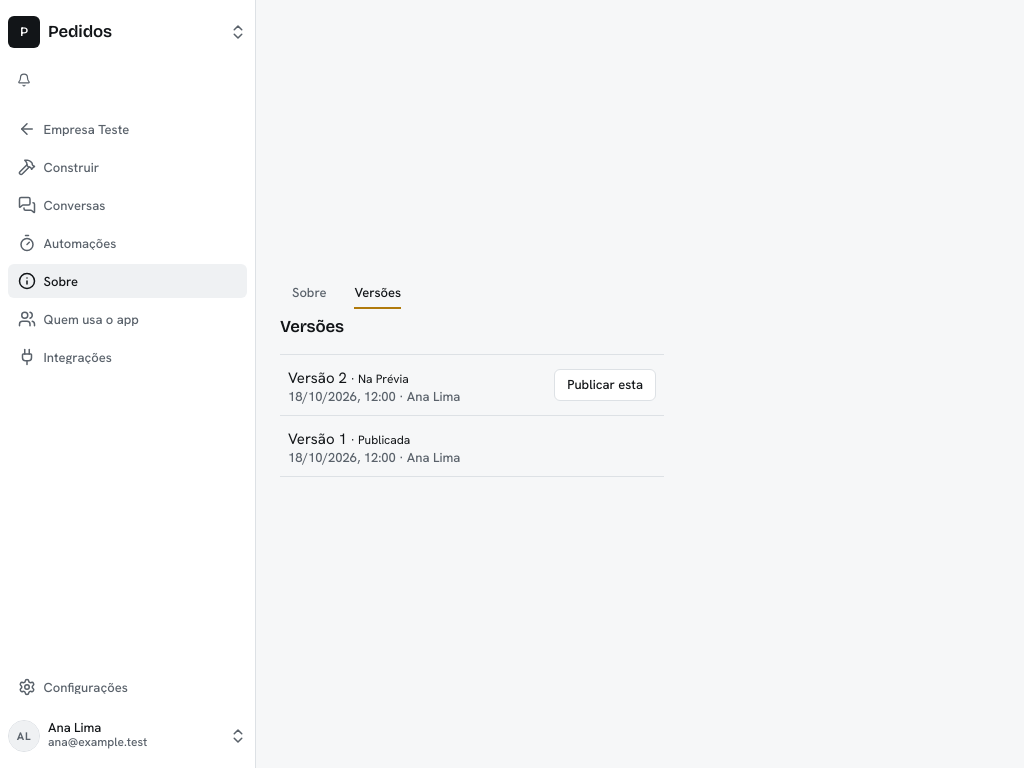
Test: 503: o diálogo fica e diz a frase; confirmar de novo vale
(page scrolled)
Expected: the heading "Versões" is shown, [280,316,344,337]
Expected: the text "Versão 2 · Na Prévia" is shown, [288,368,409,388]
Click the button "Publicar esta": point(605, 385) [554,369,656,401]
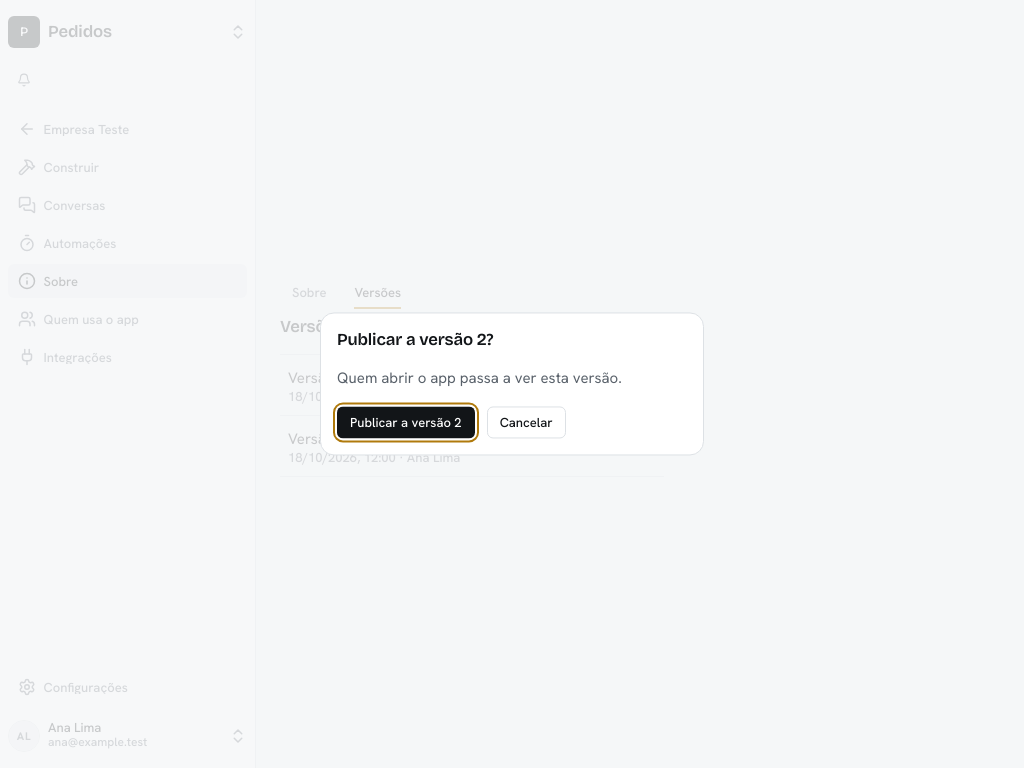
Expected: the dialog is shown, [320,312,704,456]
Click the button "Publicar a versão 2": point(406, 422) [337,406,475,438]
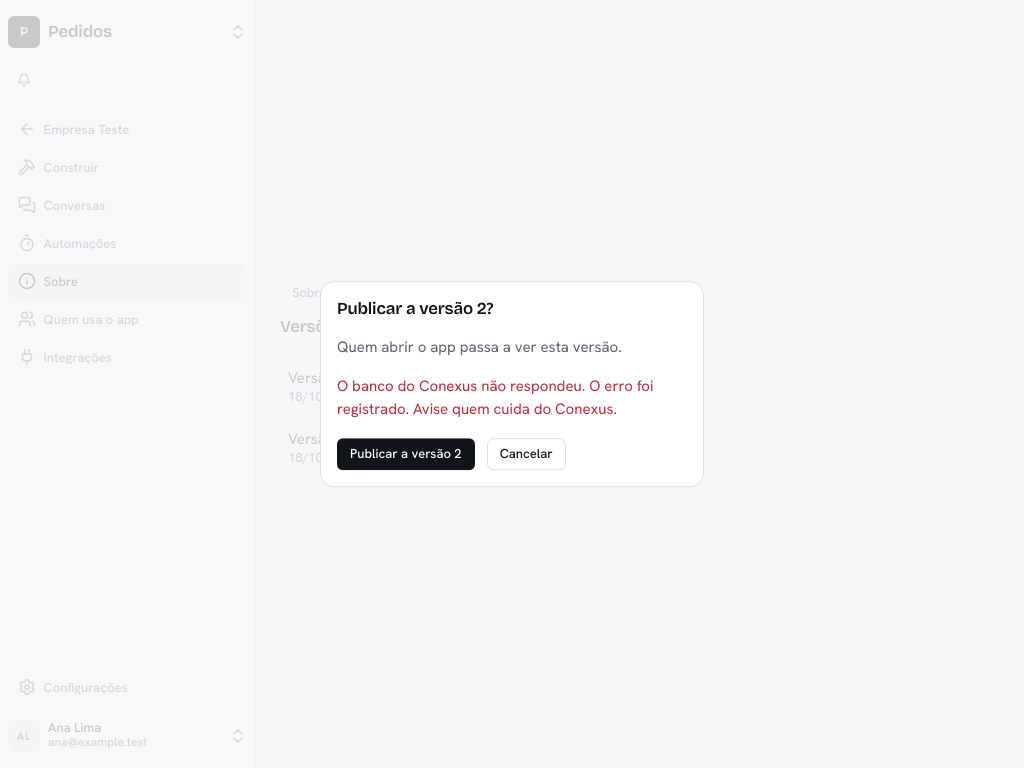
Expected: the dialog is shown, [320,281,704,487]
Expected: the button "Publicar a versão 2" is enabled, [337,438,475,470]
Expected: the message shows "O banco do Conexus não respondeu.", [337,376,653,420]
